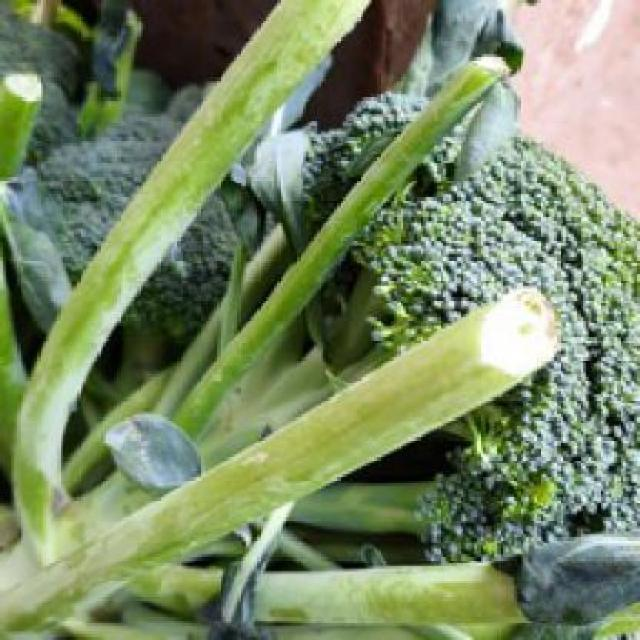broccoli: (177, 51, 634, 624), (5, 106, 178, 414)
